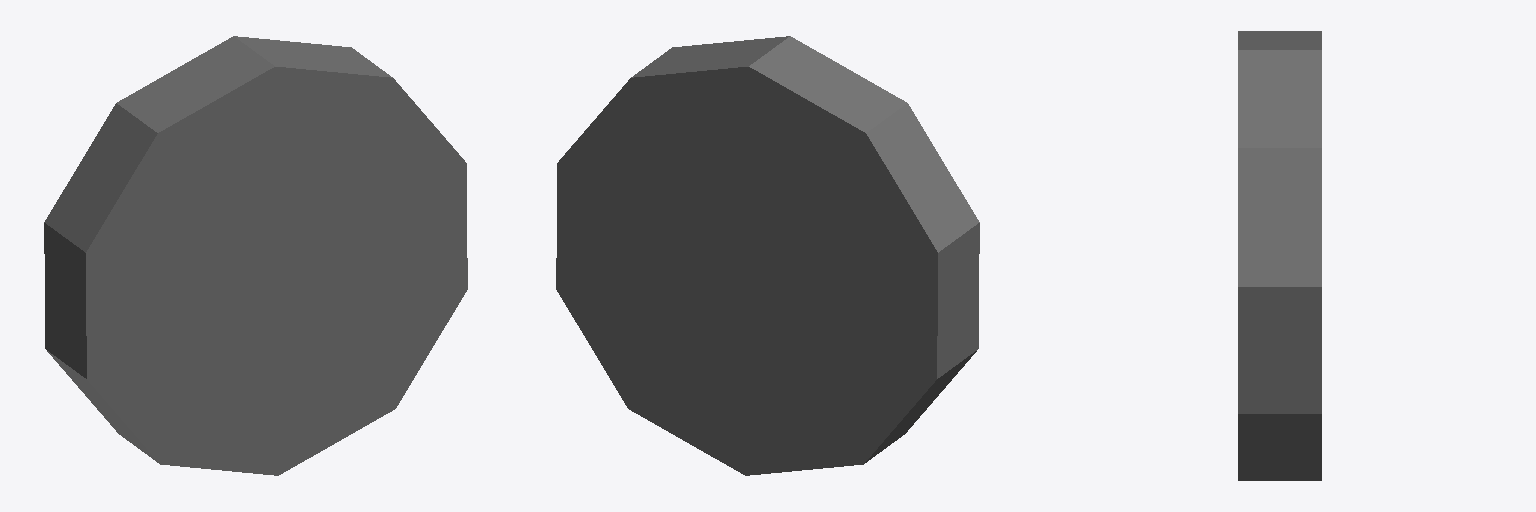
File: gauge.obj
3 views of the same model, side by side, from view 1: azimuth 30°, elevation 25°; view 2: azimuth 150°, elevation 25°; view 3: azimuth 270°, elevation 25° (orthographic).
Parts seen in each view (by area): view 1: gague; view 2: gague; view 3: gague.
Part boxes in pixels (x1,y1,x2,y2): gague: (44, 36, 467, 475); gague: (556, 36, 979, 475); gague: (1238, 31, 1321, 480).
Bounding box in the file's own units: 3.61 × 3.71 × 0.6821.